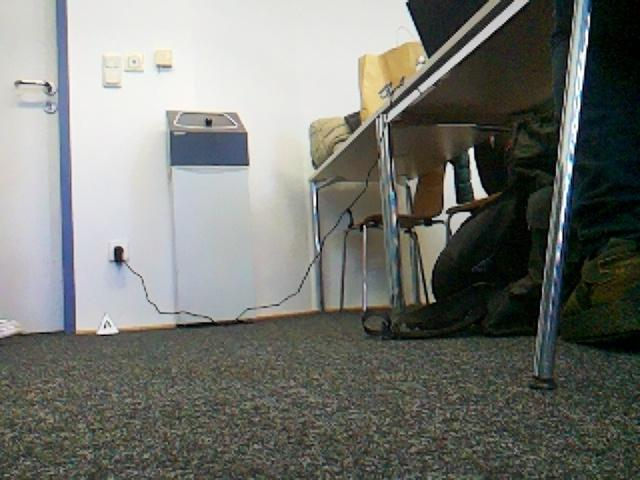A: (96, 313, 117, 333)
